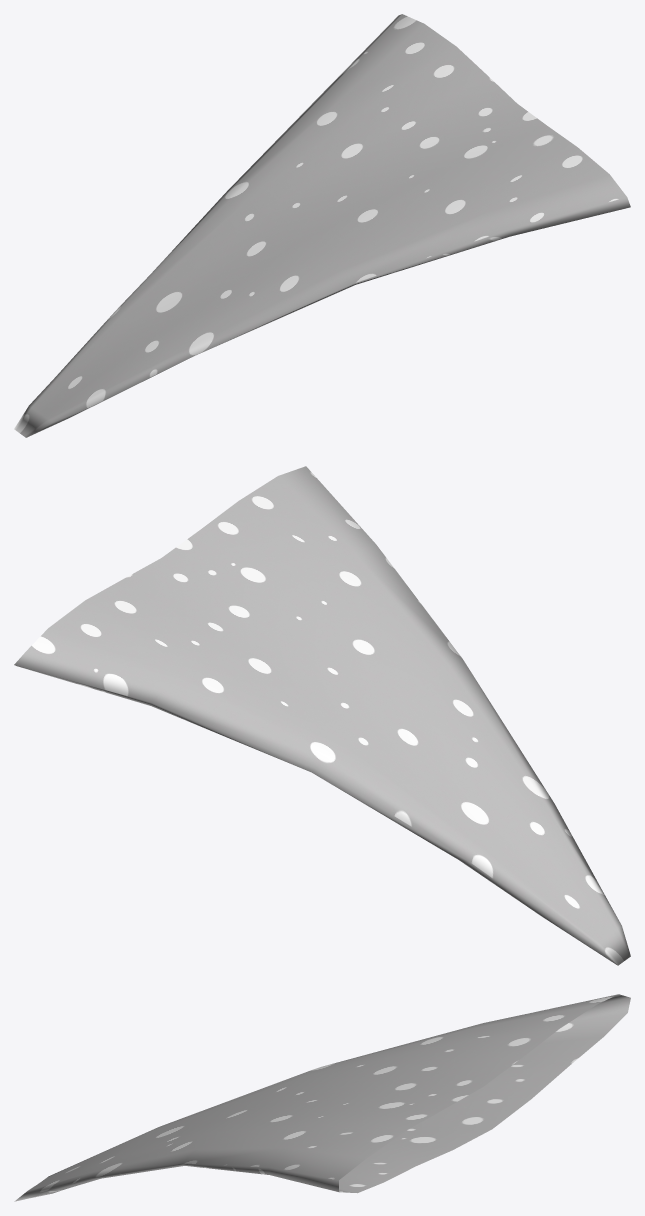
File: aletaDerManta1.obj
3 renders of one model, top to bottom at view 1: azimuth 30°, elevation 25°; view 2: azimuth 150°, elevation 25°; view 3: azimuth 330°, elevation 25°, orthographic. The views are drawn at different scales.
Visible parts, largest first — view 1: aletaDerManta1:Box01; view 2: aletaDerManta1:Box01; view 3: aletaDerManta1:Box01.
Boxes of the visible parts, x1=… form: aletaDerManta1:Box01: x1=14, y1=14, x2=630, y2=437; aletaDerManta1:Box01: x1=14, y1=466, x2=630, y2=965; aletaDerManta1:Box01: x1=14, y1=994, x2=630, y2=1201.
Size of the model in its own units: 6.17 by 3.04 by 5.62.
1 material, 1 textured.
